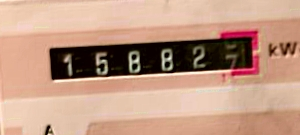1: (62, 52, 77, 78)
2: (192, 44, 208, 68)
5: (94, 49, 111, 76)
7: (225, 50, 240, 70)
8: (127, 49, 144, 75), (160, 46, 176, 72)
screen: (35, 22, 271, 96)
